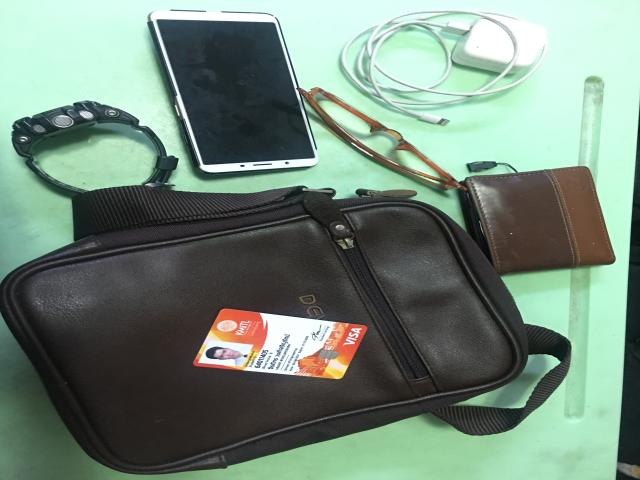Glasses: (298, 87, 467, 190)
Mobile phone: (148, 10, 318, 173)
Wallet: (460, 166, 615, 275)
Watch: (12, 100, 178, 193)
wire: (342, 9, 547, 125)
